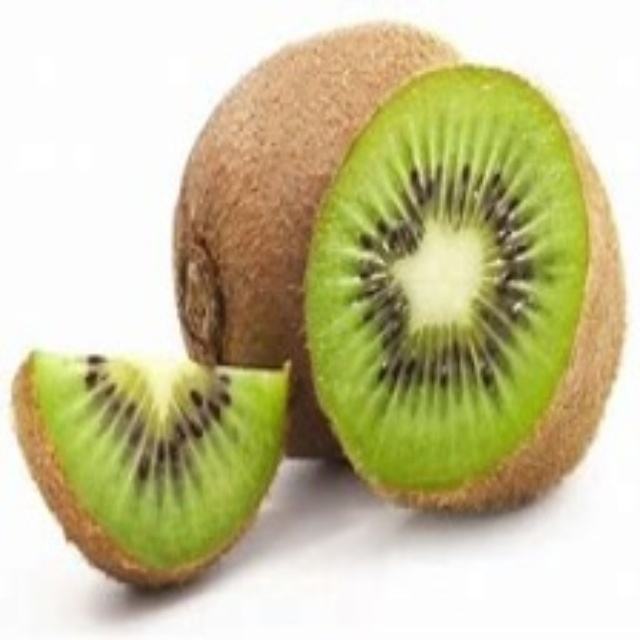kiwi: (304, 67, 625, 515), (178, 19, 493, 456), (5, 338, 290, 593)
